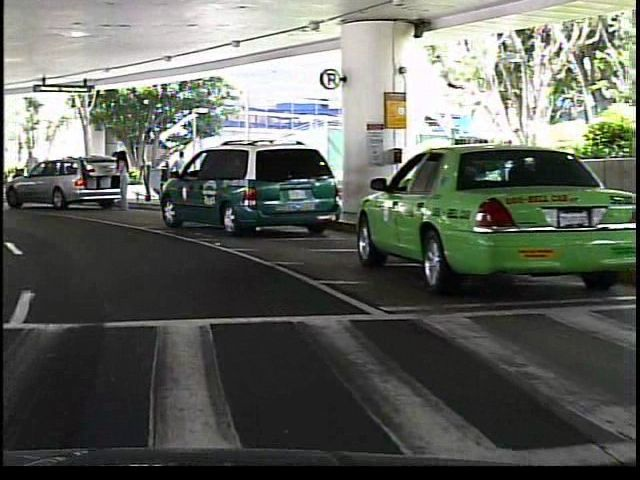person: (110, 147, 129, 214), (17, 147, 41, 199)
